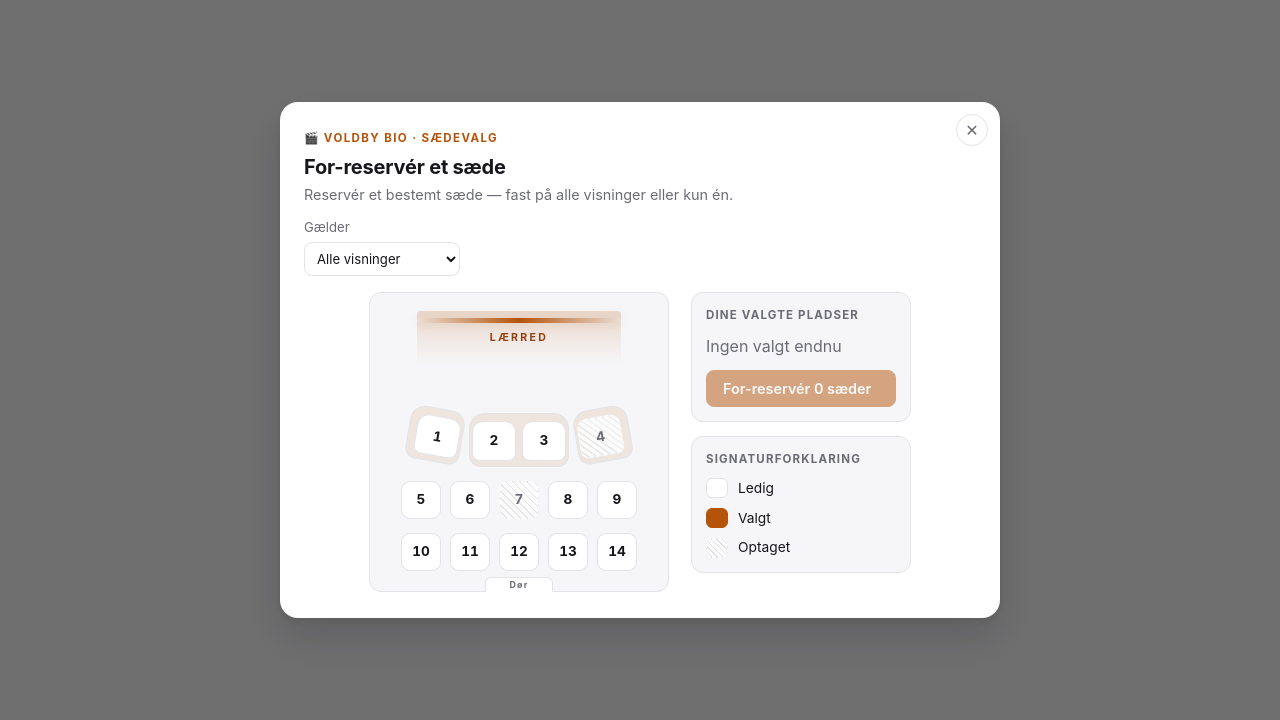
Test: HoldSeatModal (feature #231) › viser backendens fejltekst og stopper ved første afvisning
The width and height of the screenshot is (1280, 720).
Click the button "1": (438,436) [412,412,463,459]
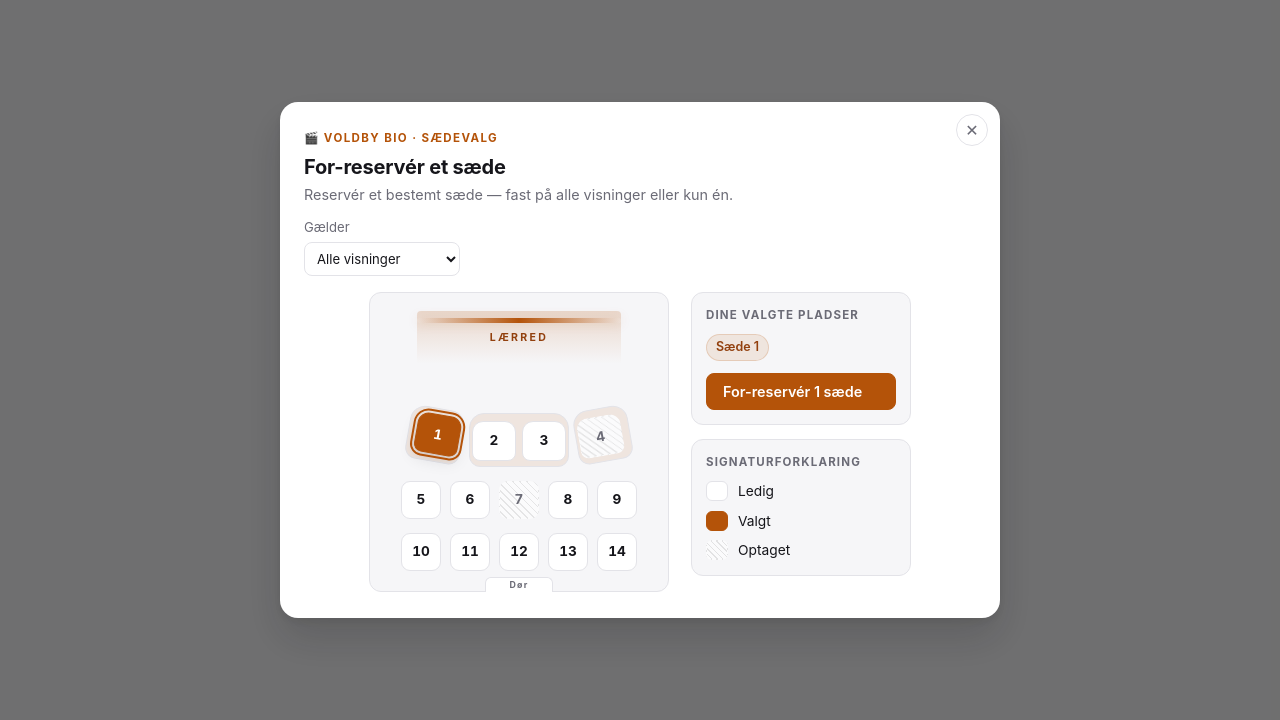
Click the button "3": (544,441) [522,421,566,461]
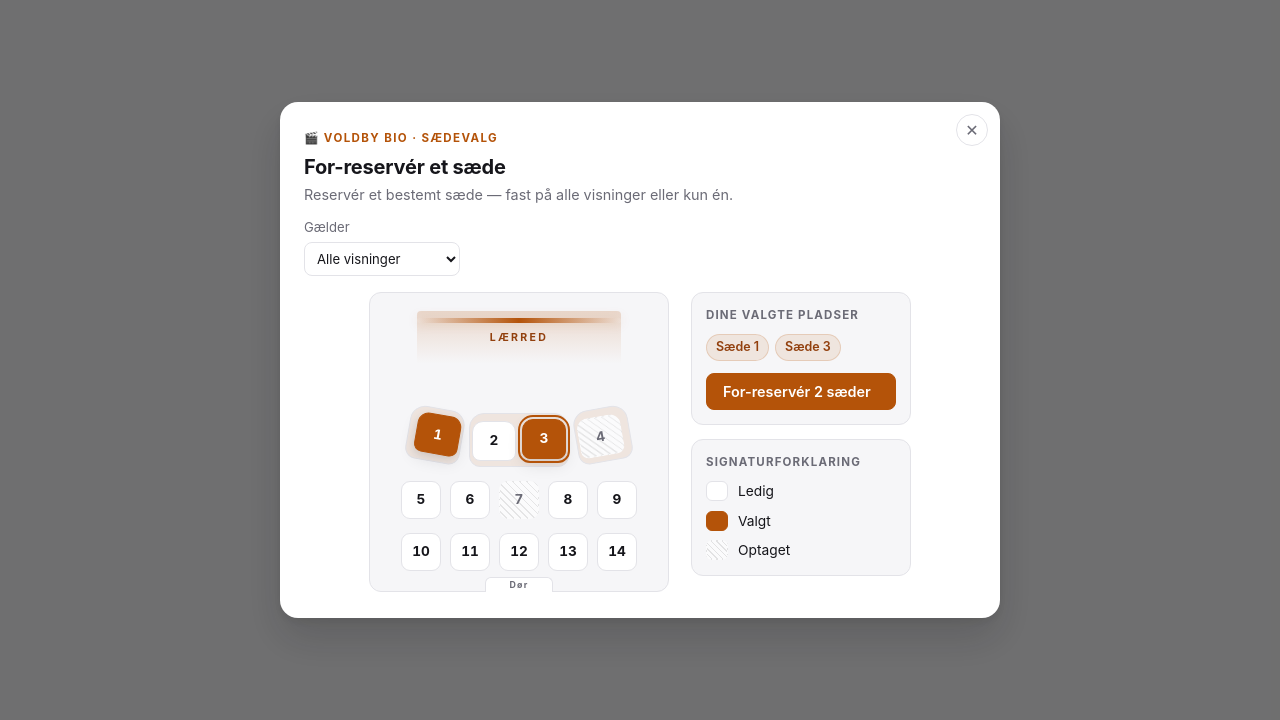
Click the button "5": (421,500) [401,481,441,519]
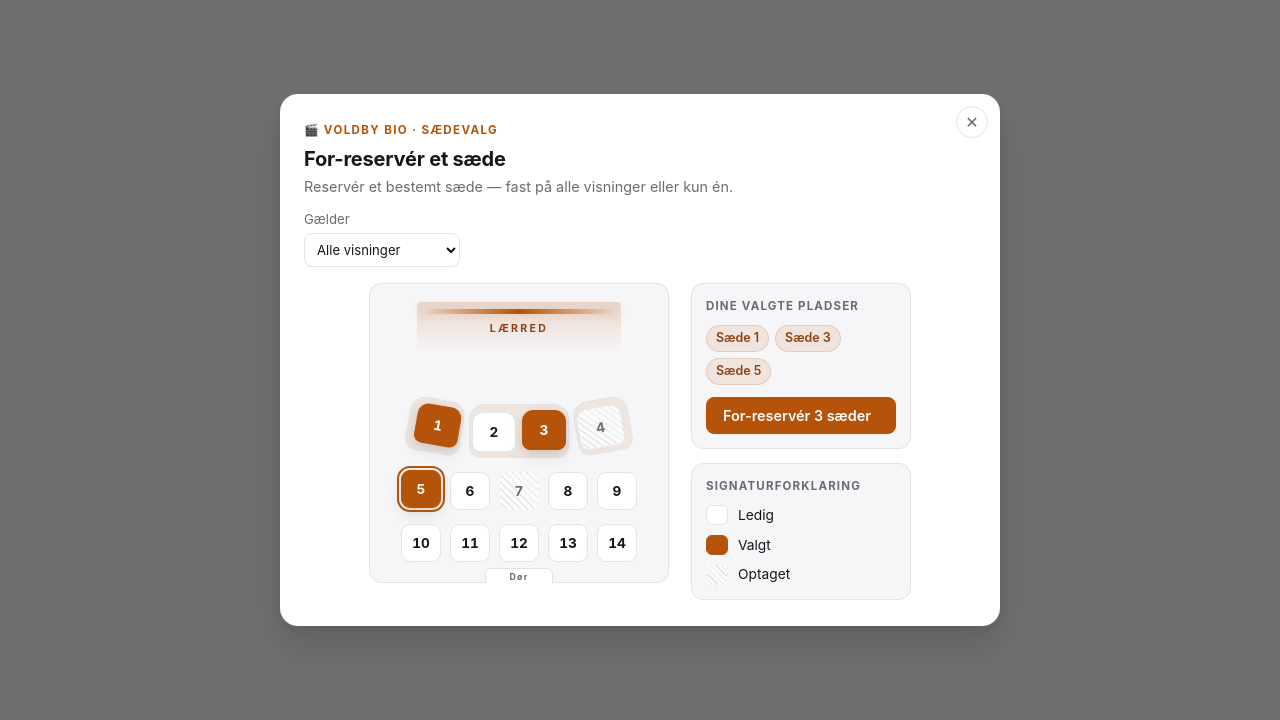
Click the button "For-reservér 3 sæder": (801,415) [706,397,896,434]
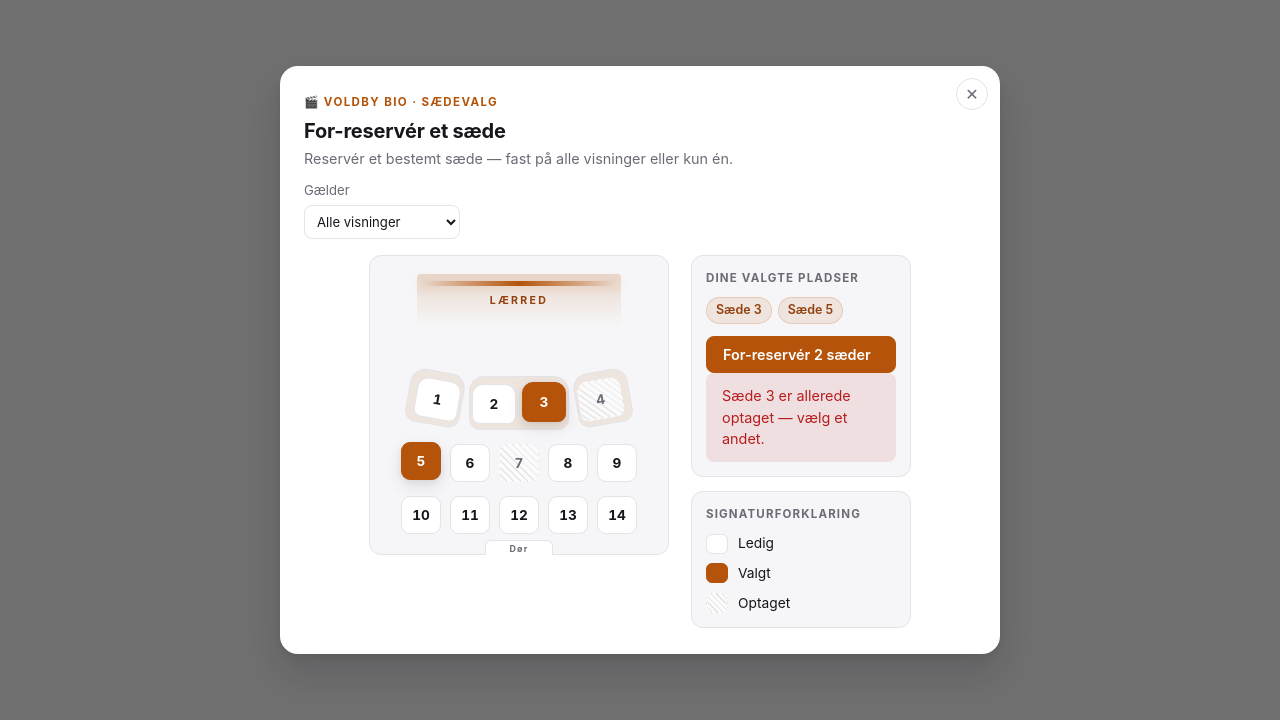
Check: the text "Sæde 3 er allerede optaget — vælg et andet." is shown, box [706,373,896,462]
Check: the button "For-reservér 2 sæder" is shown, box [706,336,896,373]
